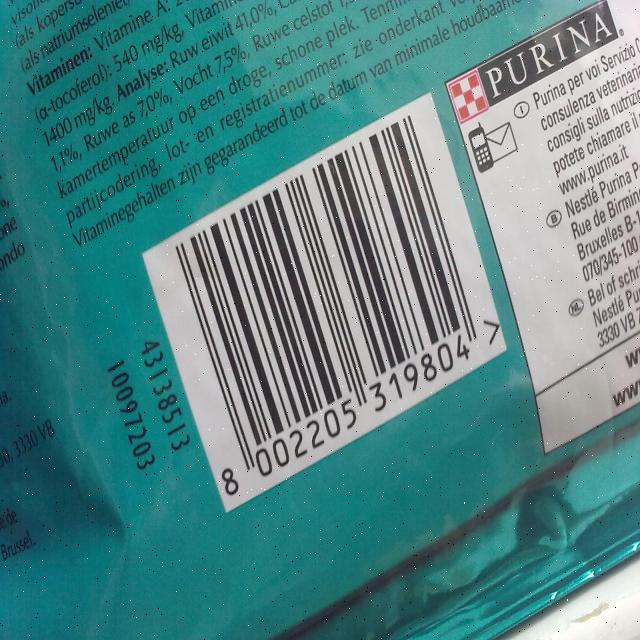barcode: (145, 95, 505, 510)
